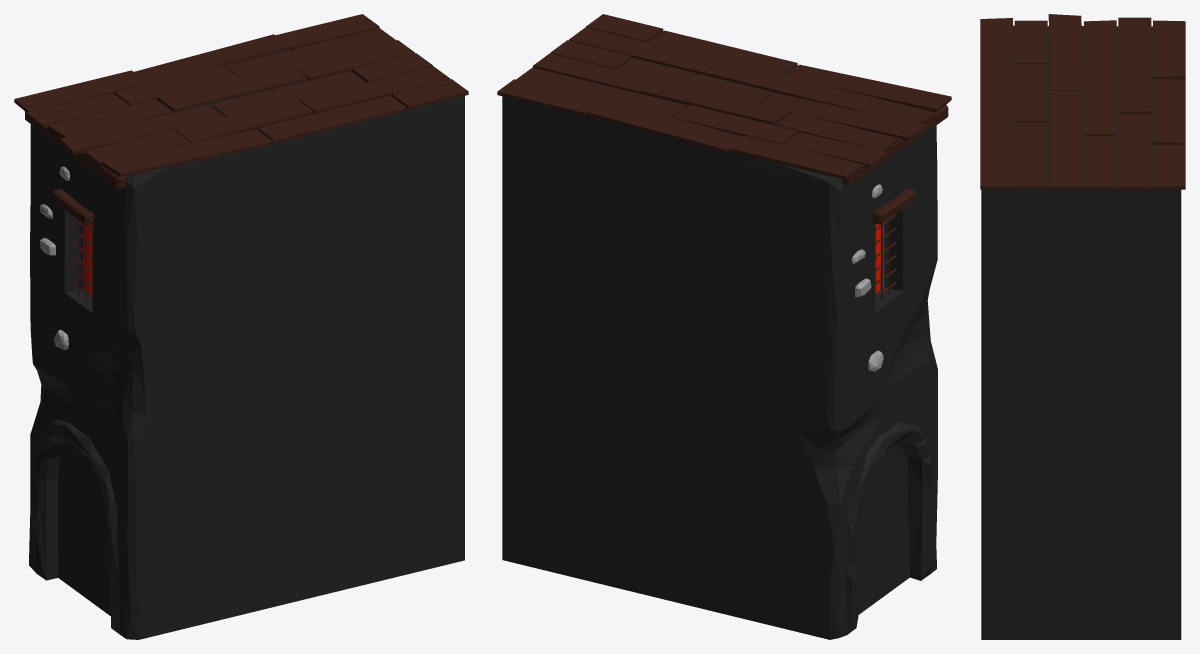
File: civilian_house_23.FBX
3 renders of one model, left to right at view 1: azimuth 30°, elevation 25°; view 2: azimuth 150°, elevation 25°; view 3: azimuth 270°, elevation 25°, orthographic. The views are drawn at different scales.
Visible parts, largest first — view 1: civilian_house_23; view 2: civilian_house_23; view 3: civilian_house_23.
Boxes of the visible parts, x1=… form: civilian_house_23: x1=14, y1=14, x2=468, y2=639; civilian_house_23: x1=497, y1=14, x2=951, y2=639; civilian_house_23: x1=980, y1=14, x2=1185, y2=639.
Size of the model in its own units: 549 by 688 by 280.
